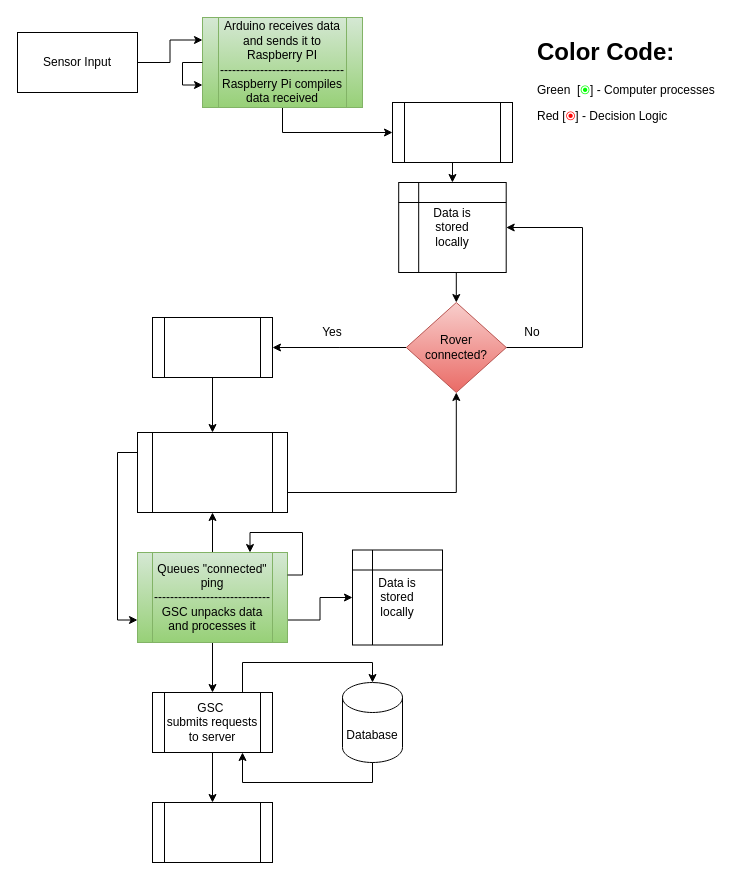
Image size: 740x880. Some labels were removed from this diagram. The centre of each missing label's shape, as x and y in pixels:
Data is posted to web application: [212,832]
Data is queued in the DLP function: [452,132]
Data is sent through antenna: [212,347]
GSC antenna receives data ----------------------------- Sends "connected" ping: [212,472]
